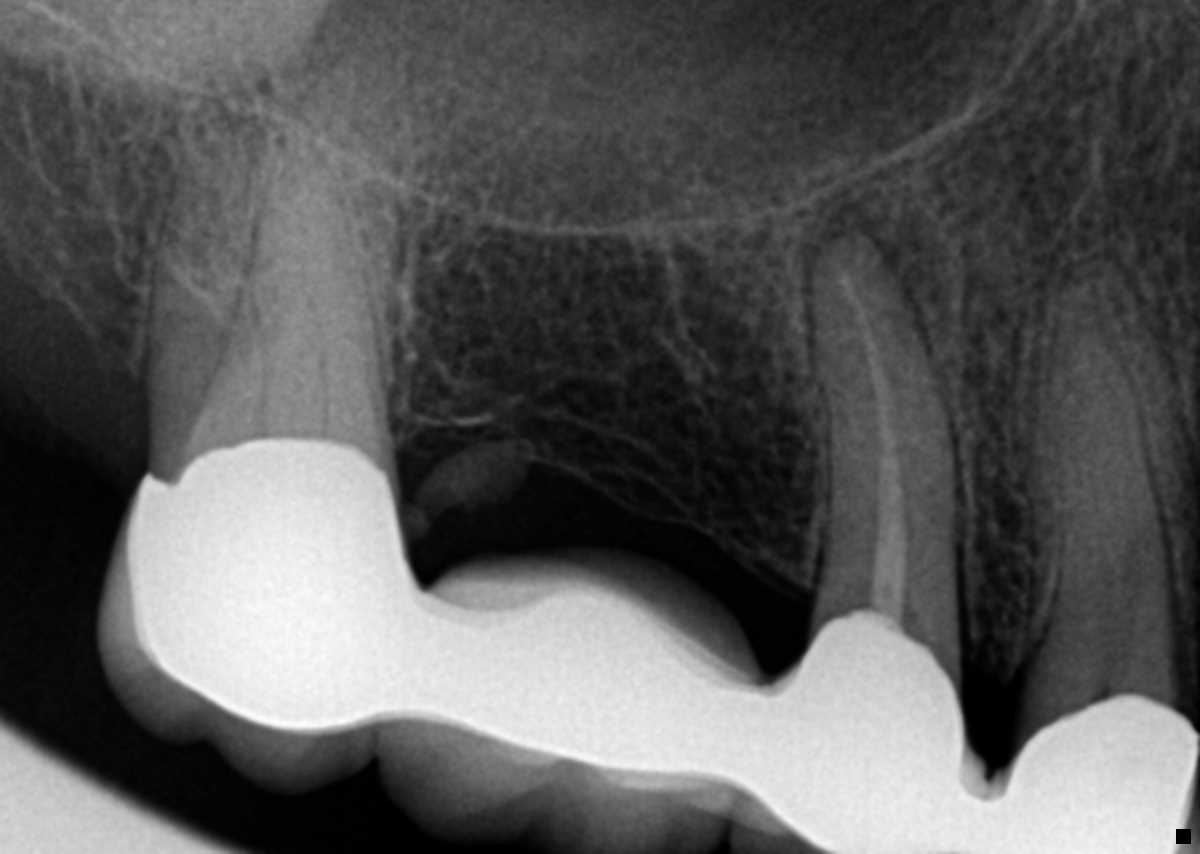Apical Lesion: (795, 170, 966, 350)
Main Root: (1025, 248, 1185, 712), (807, 235, 964, 642)
Palatal Root: (190, 49, 408, 449)
Root Canal Filling: (835, 263, 909, 623)
